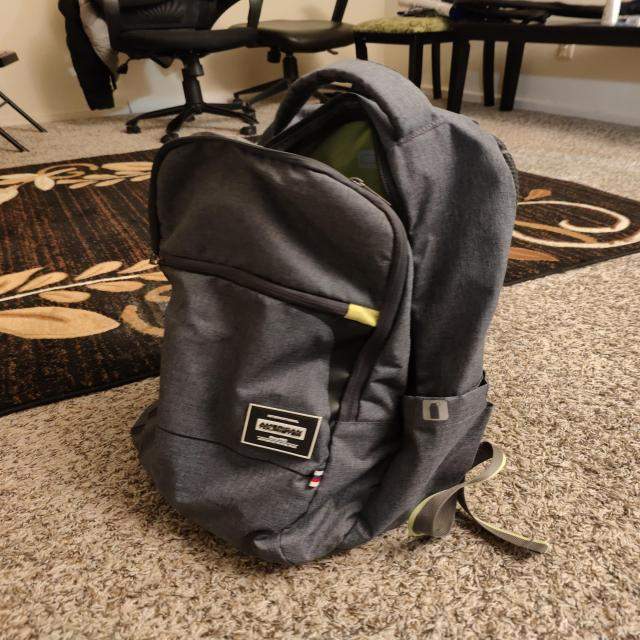bag: (149, 63, 518, 563)
